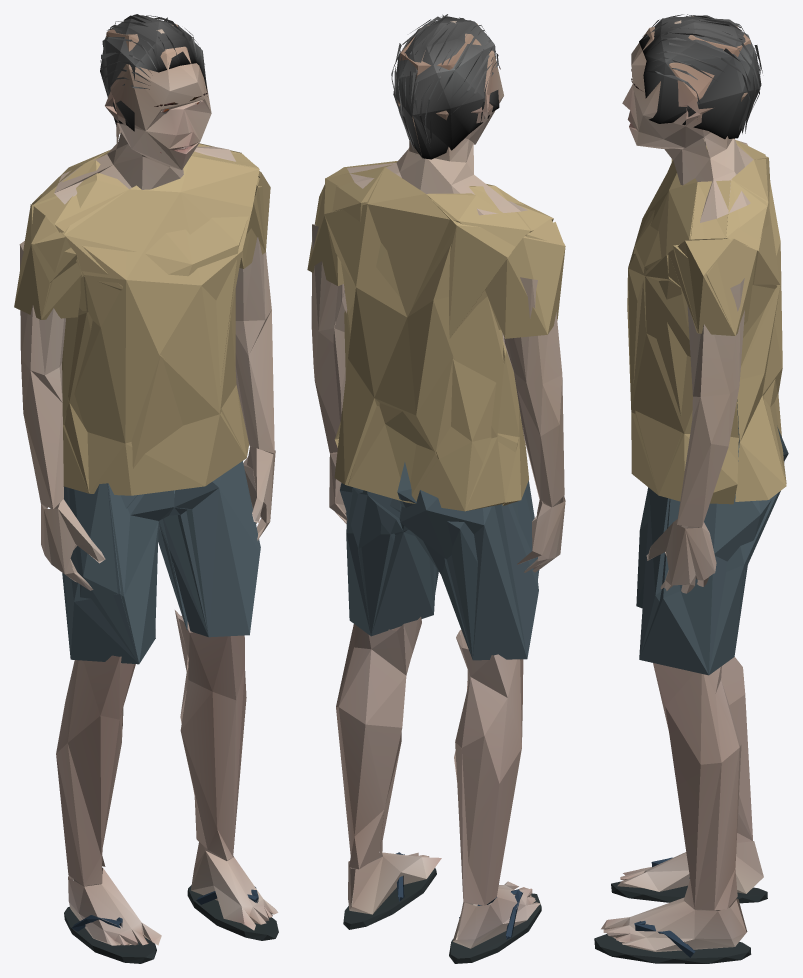
Rendered from person-9-far.glb.
3 renders of one model, left to right at view 1: azimuth 30°, elevation 25°; view 2: azimuth 150°, elevation 25°; view 3: azimuth 270°, elevation 25°, orthographic.
Parts seen in each view (by area): view 1: person-9 far; view 2: person-9 far; view 3: person-9 far.
Part boxes in pixels (x1,y1,x2,y2): person-9 far: (14,14,278,963); person-9 far: (307,14,565,963); person-9 far: (594,14,788,963).
Bounding box in the file's own units: 0.5066 × 1.78 × 0.3471.
